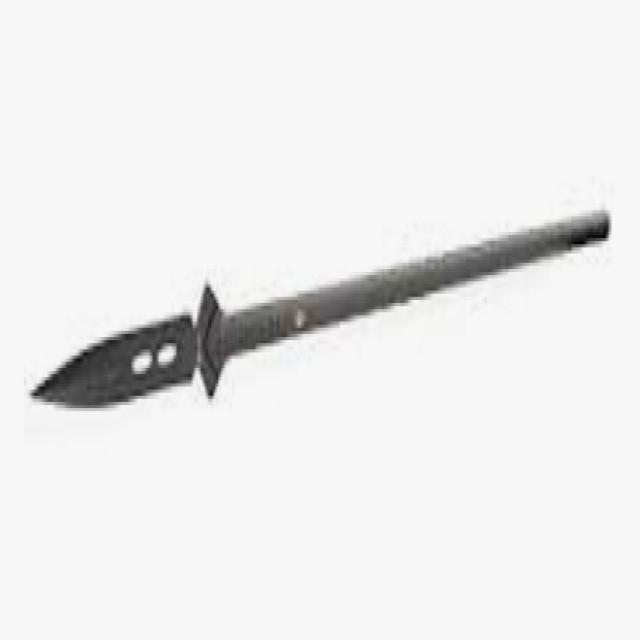spear: (19, 178, 616, 458)
